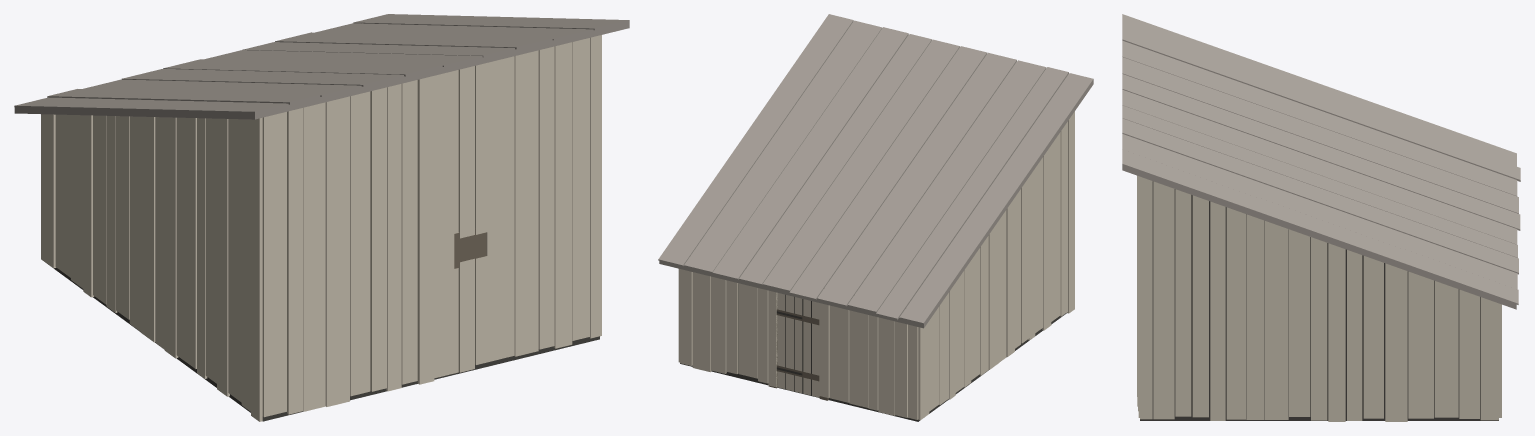
The model's file is recon_1835_blk_south_water_dearborn_d2_04__inferred_1835.glb.
3 views of the same model, side by side, from view 1: azimuth 30°, elevation 25°; view 2: azimuth 150°, elevation 25°; view 3: azimuth 270°, elevation 25° (orthographic). The views are drawn at different scales.
Parts seen in each view (by area): view 1: recon_1835_blk_south_water_dearborn_d2_04__inferred_1835; view 2: recon_1835_blk_south_water_dearborn_d2_04__inferred_1835; view 3: recon_1835_blk_south_water_dearborn_d2_04__inferred_1835.
Boxes of the visible parts, x1,y1,x2,y2 form: recon_1835_blk_south_water_dearborn_d2_04__inferred_1835: [14, 14, 629, 421]; recon_1835_blk_south_water_dearborn_d2_04__inferred_1835: [658, 14, 1093, 421]; recon_1835_blk_south_water_dearborn_d2_04__inferred_1835: [1122, 14, 1520, 421].
Size of the model in its own units: 5.29 by 4.36 by 5.93.
